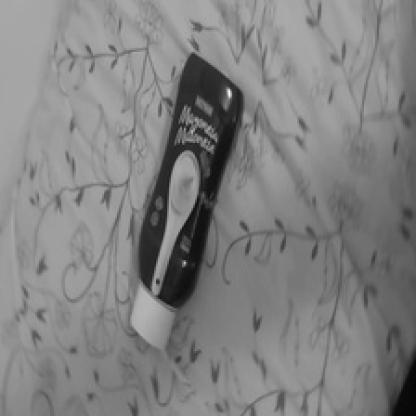plastic_bottles: (111, 49, 259, 362)
